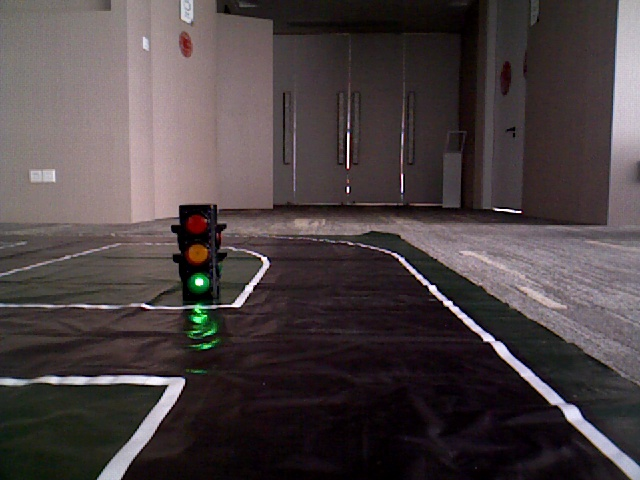green: (179, 208, 214, 292)
